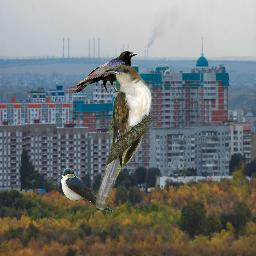Crow: (74, 50, 137, 93)
Cuckoo: (95, 65, 153, 210)
Swallow: (61, 168, 113, 212)
